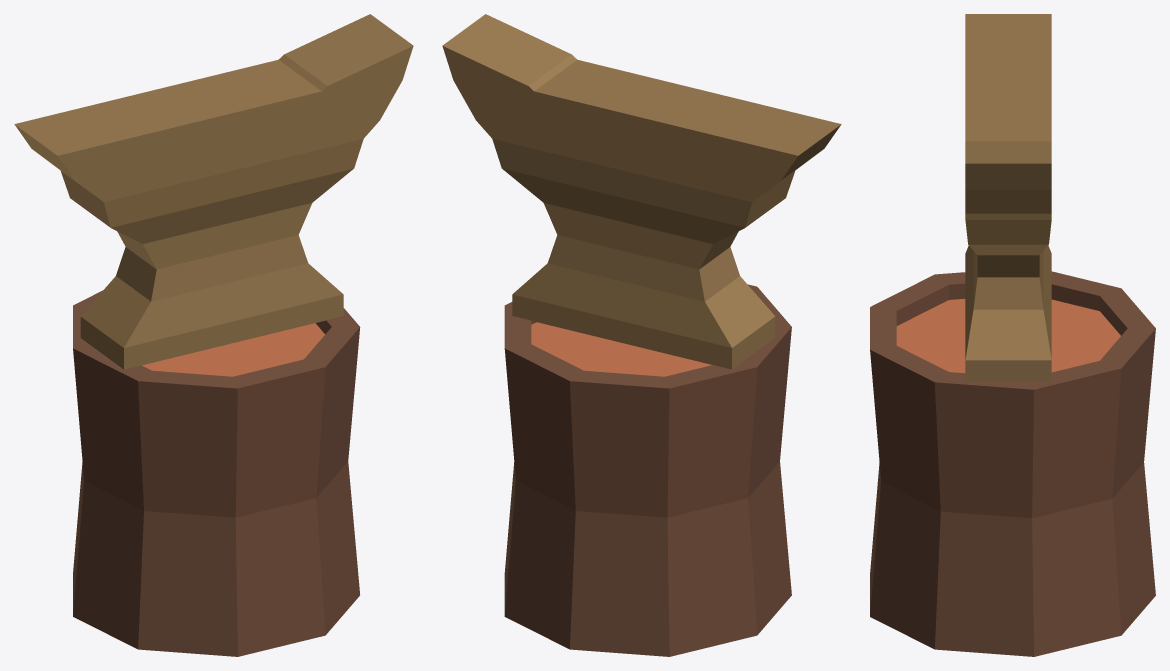
File: Anvil_4_Brown.fbx
3 renders of one model, left to right at view 1: azimuth 30°, elevation 25°; view 2: azimuth 150°, elevation 25°; view 3: azimuth 270°, elevation 25°, orthographic.
Parts seen in each view (by area): view 1: Anvil_4_Part_1, Anvil_4_Part_3, Anvil_4_Part_2; view 2: Anvil_4_Part_1, Anvil_4_Part_3, Anvil_4_Part_2; view 3: Anvil_4_Part_1, Anvil_4_Part_3, Anvil_4_Part_2.
Boxes of the visible parts, box(x1,y1,x2,y2) form: Anvil_4_Part_1: box(73, 290, 360, 656); Anvil_4_Part_3: box(14, 14, 413, 369); Anvil_4_Part_2: box(142, 323, 324, 376); Anvil_4_Part_1: box(504, 284, 791, 656); Anvil_4_Part_3: box(442, 14, 841, 369); Anvil_4_Part_2: box(531, 322, 711, 376); Anvil_4_Part_1: box(870, 271, 1155, 656); Anvil_4_Part_3: box(965, 14, 1051, 381); Anvil_4_Part_2: box(896, 298, 1120, 373).
Bounding box in the file's own units: 97.15 × 136 × 67.89.
